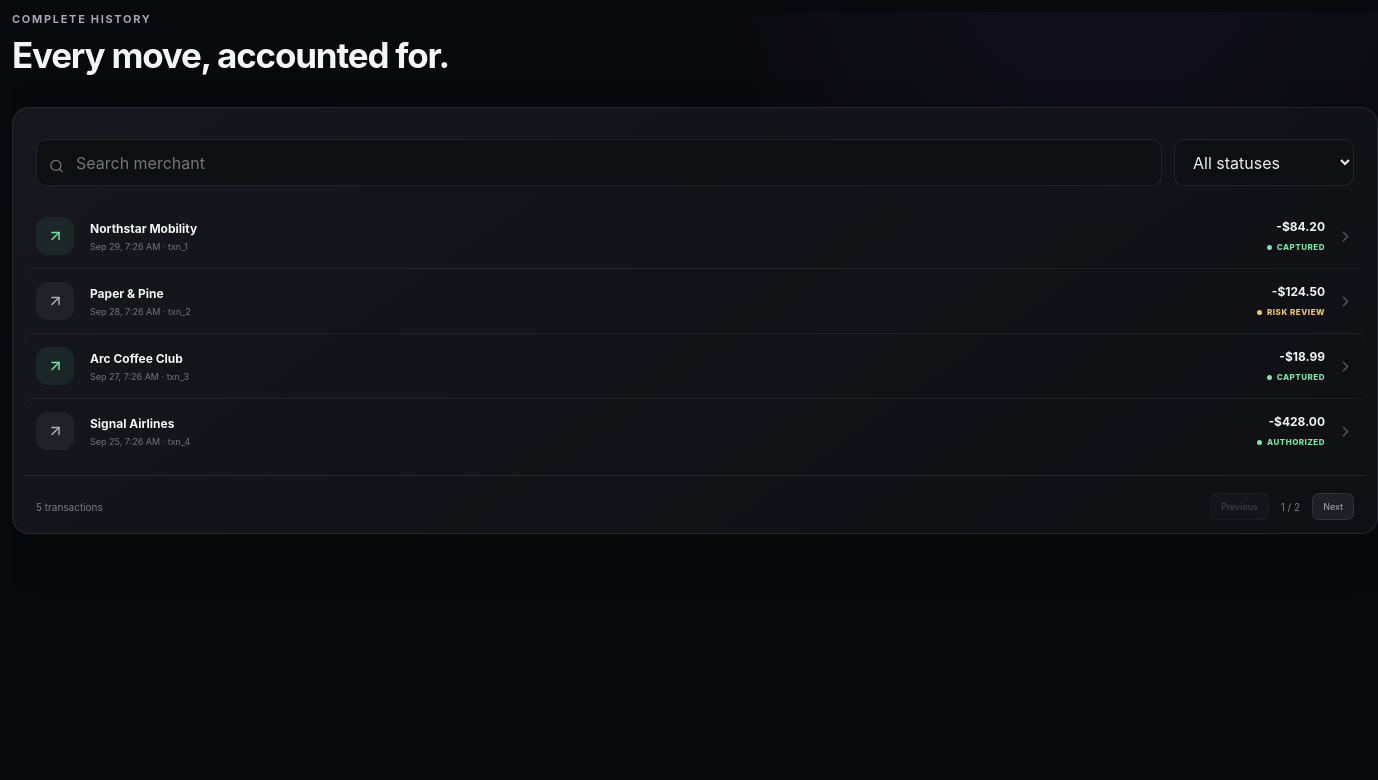
Test: transactions › filters transactions by merchant
The width and height of the screenshot is (1378, 780).
Expected: the text "Northstar Mobility" is shown, [90, 220, 197, 236]
Type "Arc" into the field named "Search transactions" at (599, 162), box [36, 139, 1162, 186]
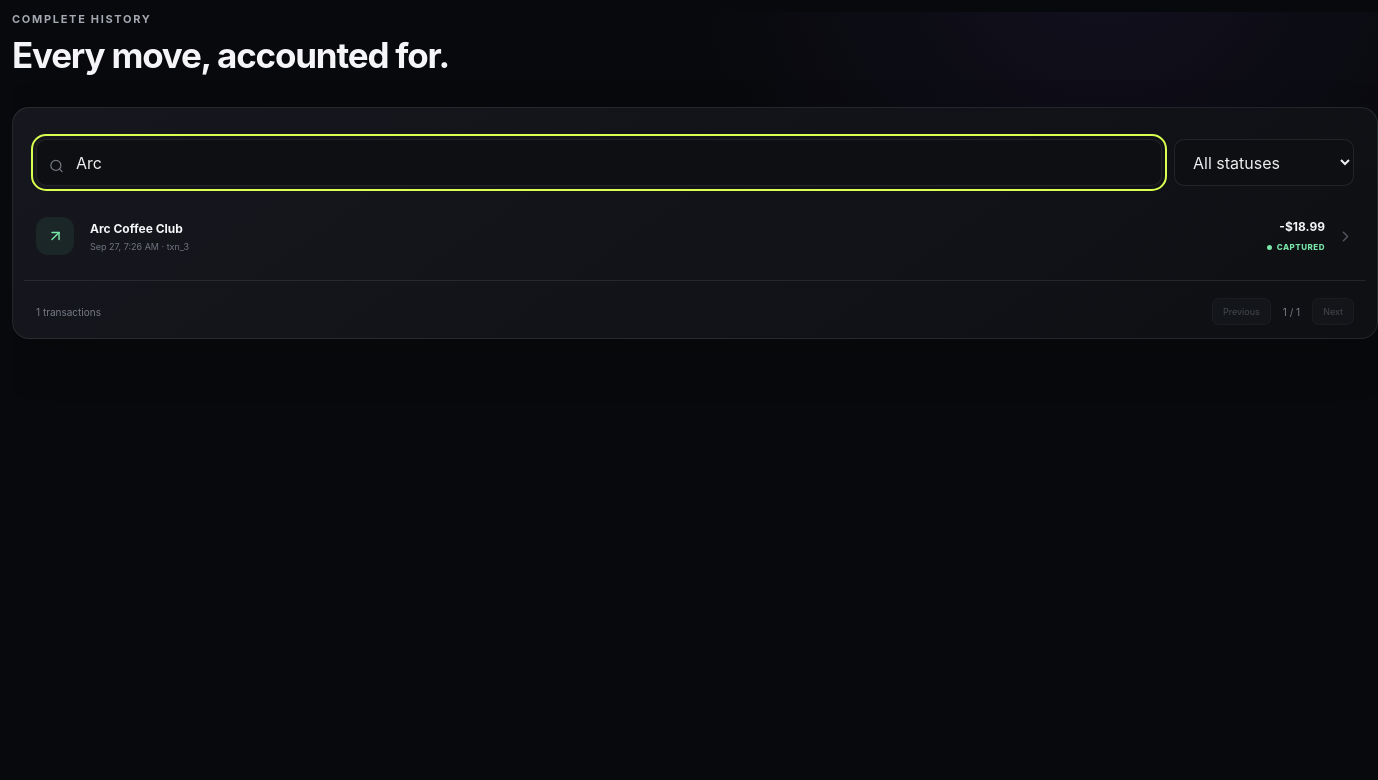
Expected: the text "Arc Coffee Club" is shown, [90, 220, 183, 236]
Now the button "Northstar Mobility" is gone
